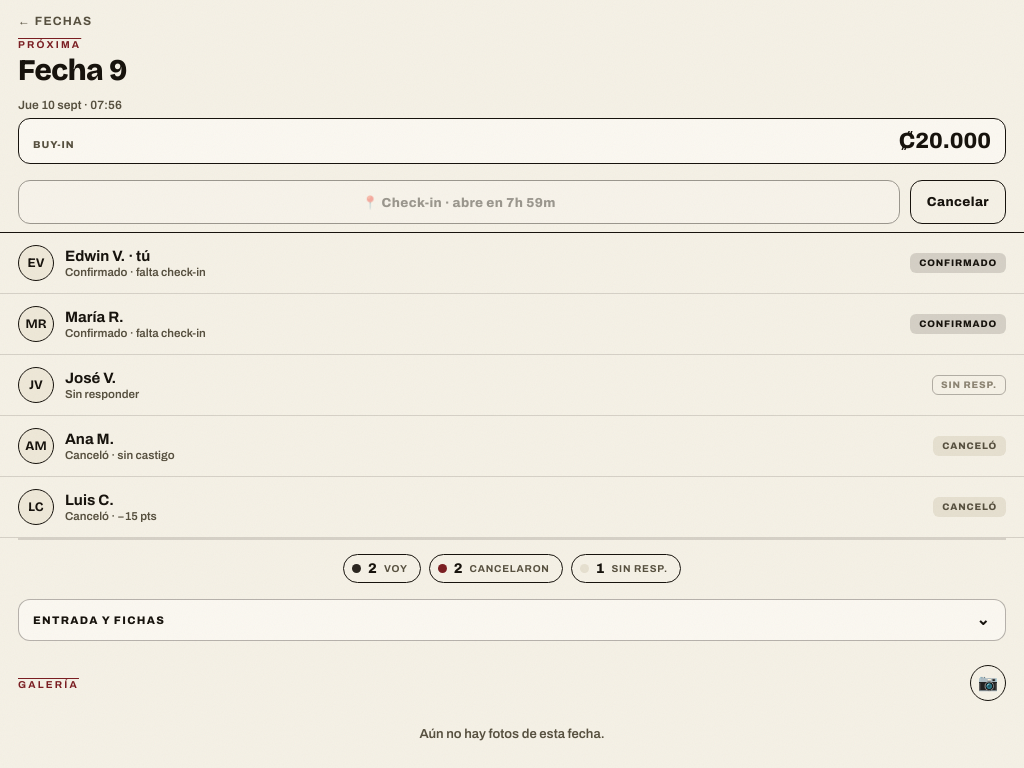
Test: FechaDetail › tapping the row body opens the stats popup and fetches player_profile for that entry
Expected: the heading "Fecha 9" is shown, [18,56,127,85]
Note: The name lives in the row body (outside the avatar button).
Step 1. Click the text "María R." → (94, 317), box [65,309,124,325]
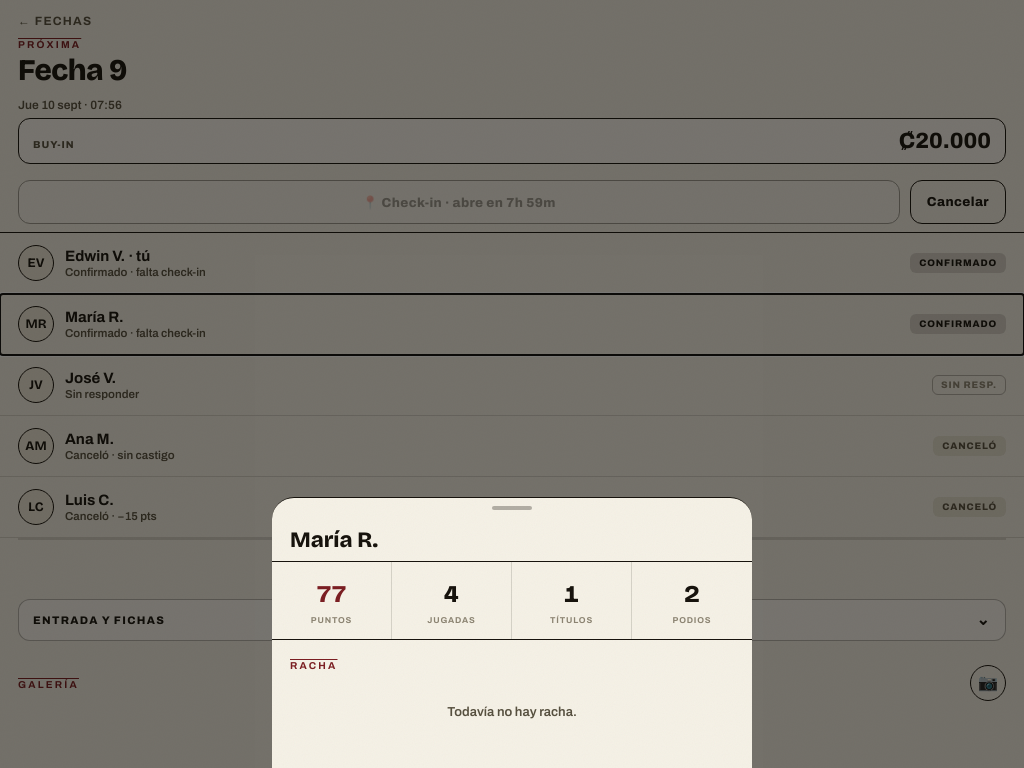
Now the element with test id "ps-stats" is shown, box [272,560,752,752]
Now the text with class "blood" reads "77", box [316,580,346,608]
